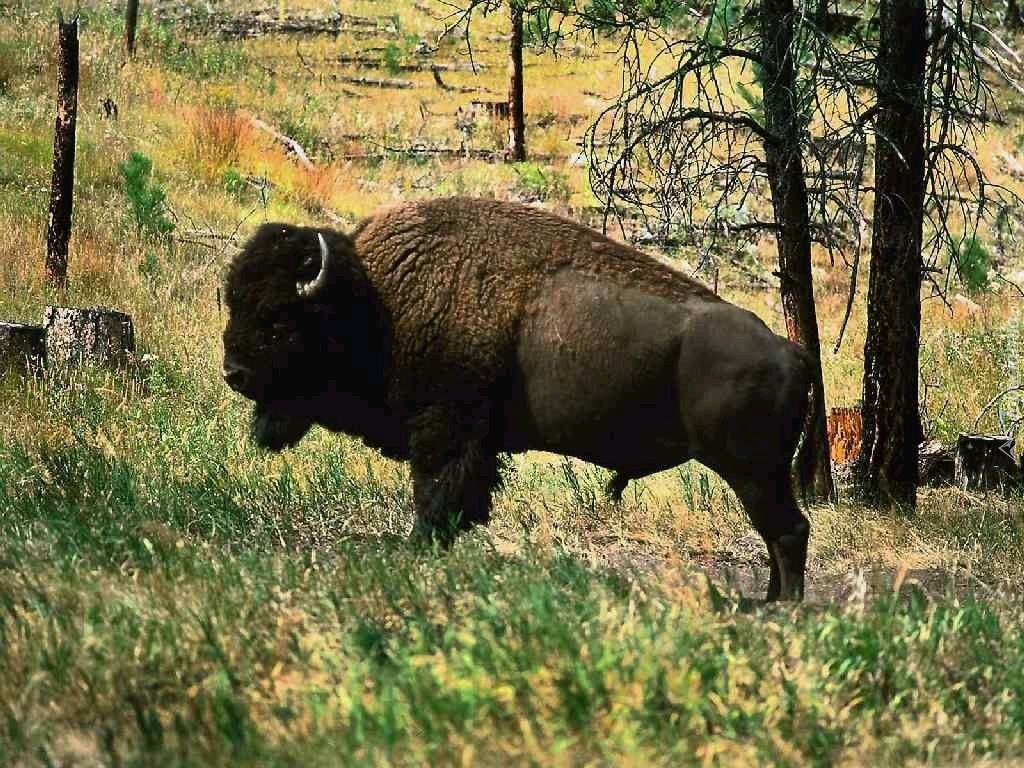zubr: (164, 121, 906, 648)
